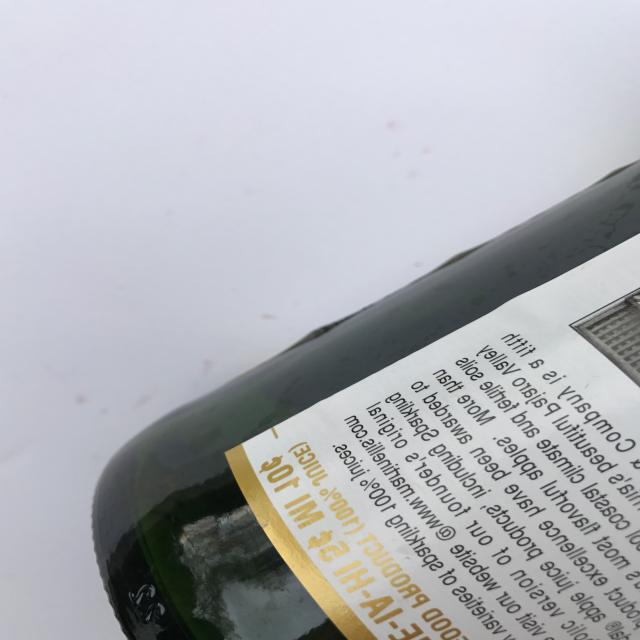glass: (90, 158, 640, 640)
